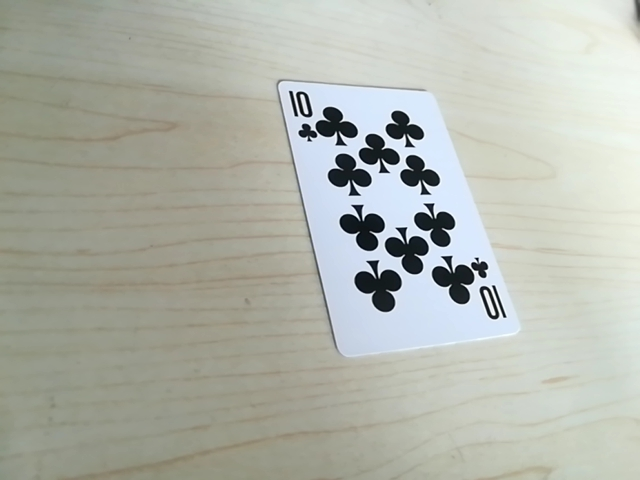mh 10: (281, 86, 325, 140), (468, 271, 507, 327)
